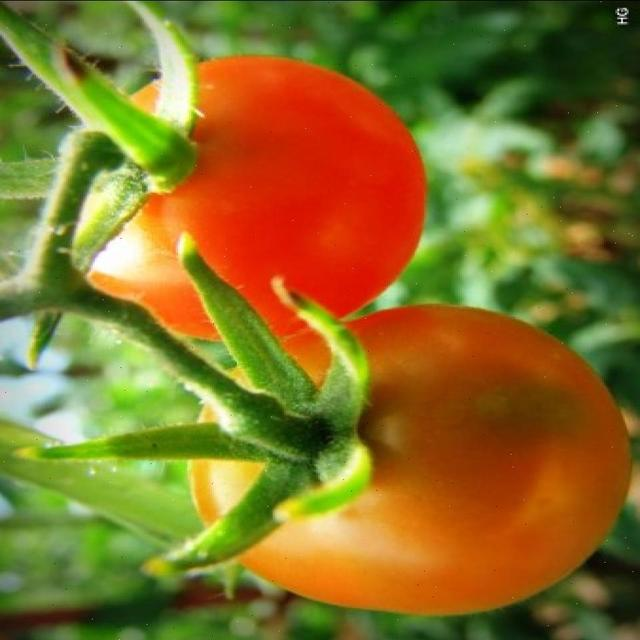Healthy Fruit: (168, 122, 313, 299)
